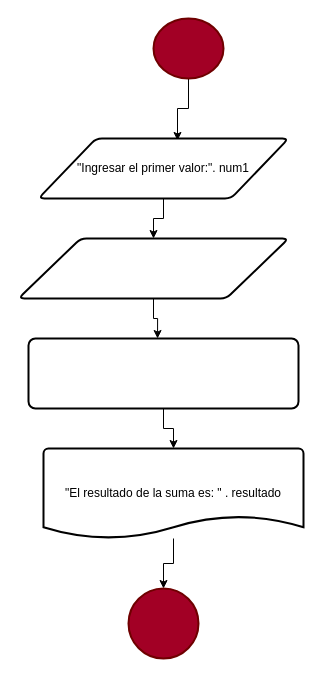
Some shapes in this 321 by 676 pixel diagram are drawn without their labels. Each missing label, with the centre of its shape:
"Ingresar el segundo valor:". num2: point 153,268
resultado = num1 + num2: point 163,373
